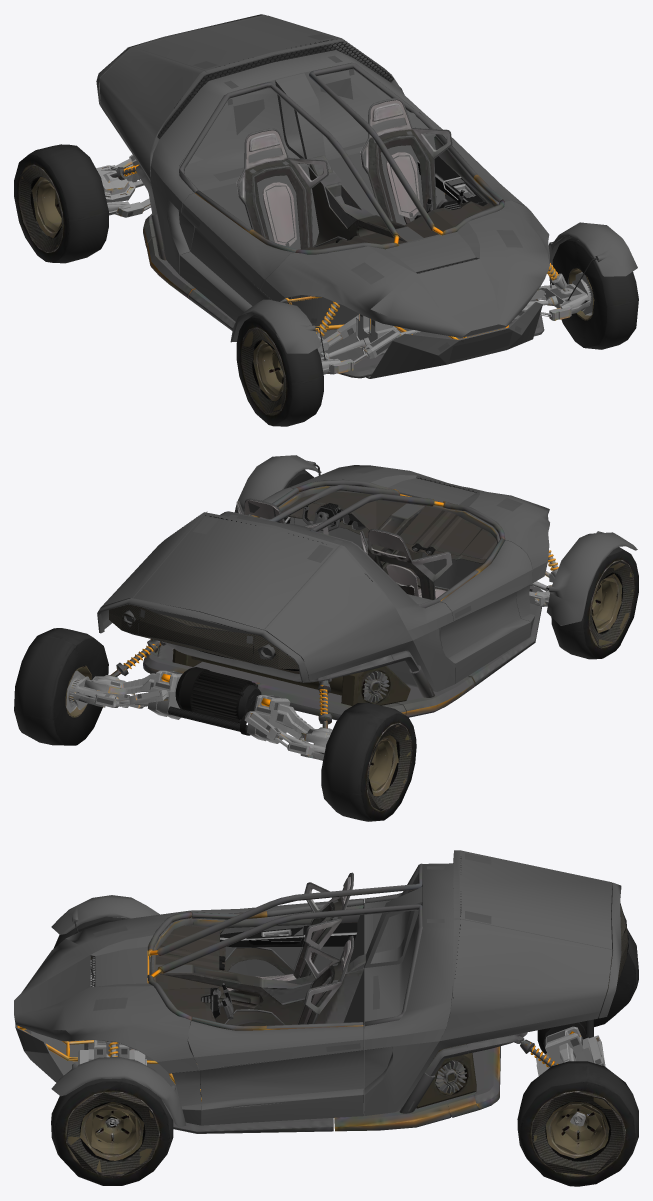
Rendered from o_scibuggy_lo.glb.
3 views of the same model, one above another, from view 1: azimuth 30°, elevation 25°; view 2: azimuth 150°, elevation 25°; view 3: azimuth 270°, elevation 25° (orthographic). The views are drawn at different scales.
Visible parts, largest first — view 1: main body_main body_0, seat_seat_0, frame_frame_0, tyre_Material.007_0, tyre back_Material.007_0, console_console_0, fender_main body_0, front suspension_front supension_0, rims_rims_0, main body_Atlas_Atlas_0, rim back_rims_0, rear suspension_rear suspension_0 (+6 smaller); view 2: main body_main body_0, tyre back_Material.007_0, frame_frame_0, rear suspension_rear suspension_0, console_console_0, fender_main body_0, rear_carbon.005_0, seat_seat_0, tyre_Material.007_0, battery_battery_0, rim back_rims_0, motor_plastic_0 (+6 smaller); view 3: main body_main body_0, frame_frame_0, console_console_0, tyre back_Material.007_0, seat_seat_0, tyre_Material.007_0, rims_rims_0, rim back_rims_0, fender_main body_0, main body_Atlas_Atlas_0, rear suspension_rear suspension_0, battery_battery_0 (+2 smaller).
Part boxes in pixels (x1=…): main body_main body_0: x1=96, y1=14, x2=549, y2=378; seat_seat_0: x1=236, y1=98, x2=452, y2=249; frame_frame_0: x1=135, y1=62, x2=544, y2=378; tyre_Material.007_0: x1=236, y1=238, x2=638, y2=426; tyre back_Material.007_0: x1=14, y1=87, x2=404, y2=263; console_console_0: x1=300, y1=155, x2=494, y2=249; fender_main body_0: x1=230, y1=222, x2=637, y2=353; front suspension_front supension_0: x1=316, y1=263, x2=591, y2=374; rims_rims_0: x1=241, y1=268, x2=594, y2=414; main body_Atlas_Atlas_0: x1=133, y1=15, x2=522, y2=323; rim back_rims_0: x1=18, y1=164, x2=63, y2=252; rear suspension_rear suspension_0: x1=96, y1=154, x2=150, y2=217; main body_main body_0: x1=97, y1=465, x2=549, y2=691; tyre back_Material.007_0: x1=14, y1=628, x2=416, y2=821; frame_frame_0: x1=143, y1=479, x2=543, y2=720; rear suspension_rear suspension_0: x1=67, y1=639, x2=332, y2=760; console_console_0: x1=281, y1=491, x2=496, y2=589; fender_main body_0: x1=234, y1=455, x2=637, y2=625; rear_carbon.005_0: x1=109, y1=604, x2=298, y2=669; seat_seat_0: x1=236, y1=498, x2=452, y2=599; tyre_Material.007_0: x1=284, y1=469, x2=638, y2=659; battery_battery_0: x1=172, y1=648, x2=410, y2=705; rim back_rims_0: x1=65, y1=665, x2=412, y2=811; motor_plastic_0: x1=175, y1=667, x2=255, y2=735; main body_main body_0: x1=14, y1=850, x2=621, y2=1125; frame_frame_0: x1=17, y1=863, x2=527, y2=1133; console_console_0: x1=155, y1=924, x2=365, y2=1025; tyre back_Material.007_0: x1=517, y1=929, x2=638, y2=1186; seat_seat_0: x1=224, y1=872, x2=353, y2=1025; tyre_Material.007_0: x1=51, y1=916, x2=173, y2=1185; rims_rims_0: x1=66, y1=956, x2=159, y2=1177; rim back_rims_0: x1=531, y1=1091, x2=625, y2=1175; fender_main body_0: x1=51, y1=895, x2=186, y2=1127; main body_Atlas_Atlas_0: x1=93, y1=850, x2=612, y2=1051; rear suspension_rear suspension_0: x1=520, y1=1026, x2=605, y2=1132; battery_battery_0: x1=416, y1=1044, x2=476, y2=1108.
Size of the model in its own units: 17.03 by 9.69 by 25.12.
22 materials, 12 textured.
